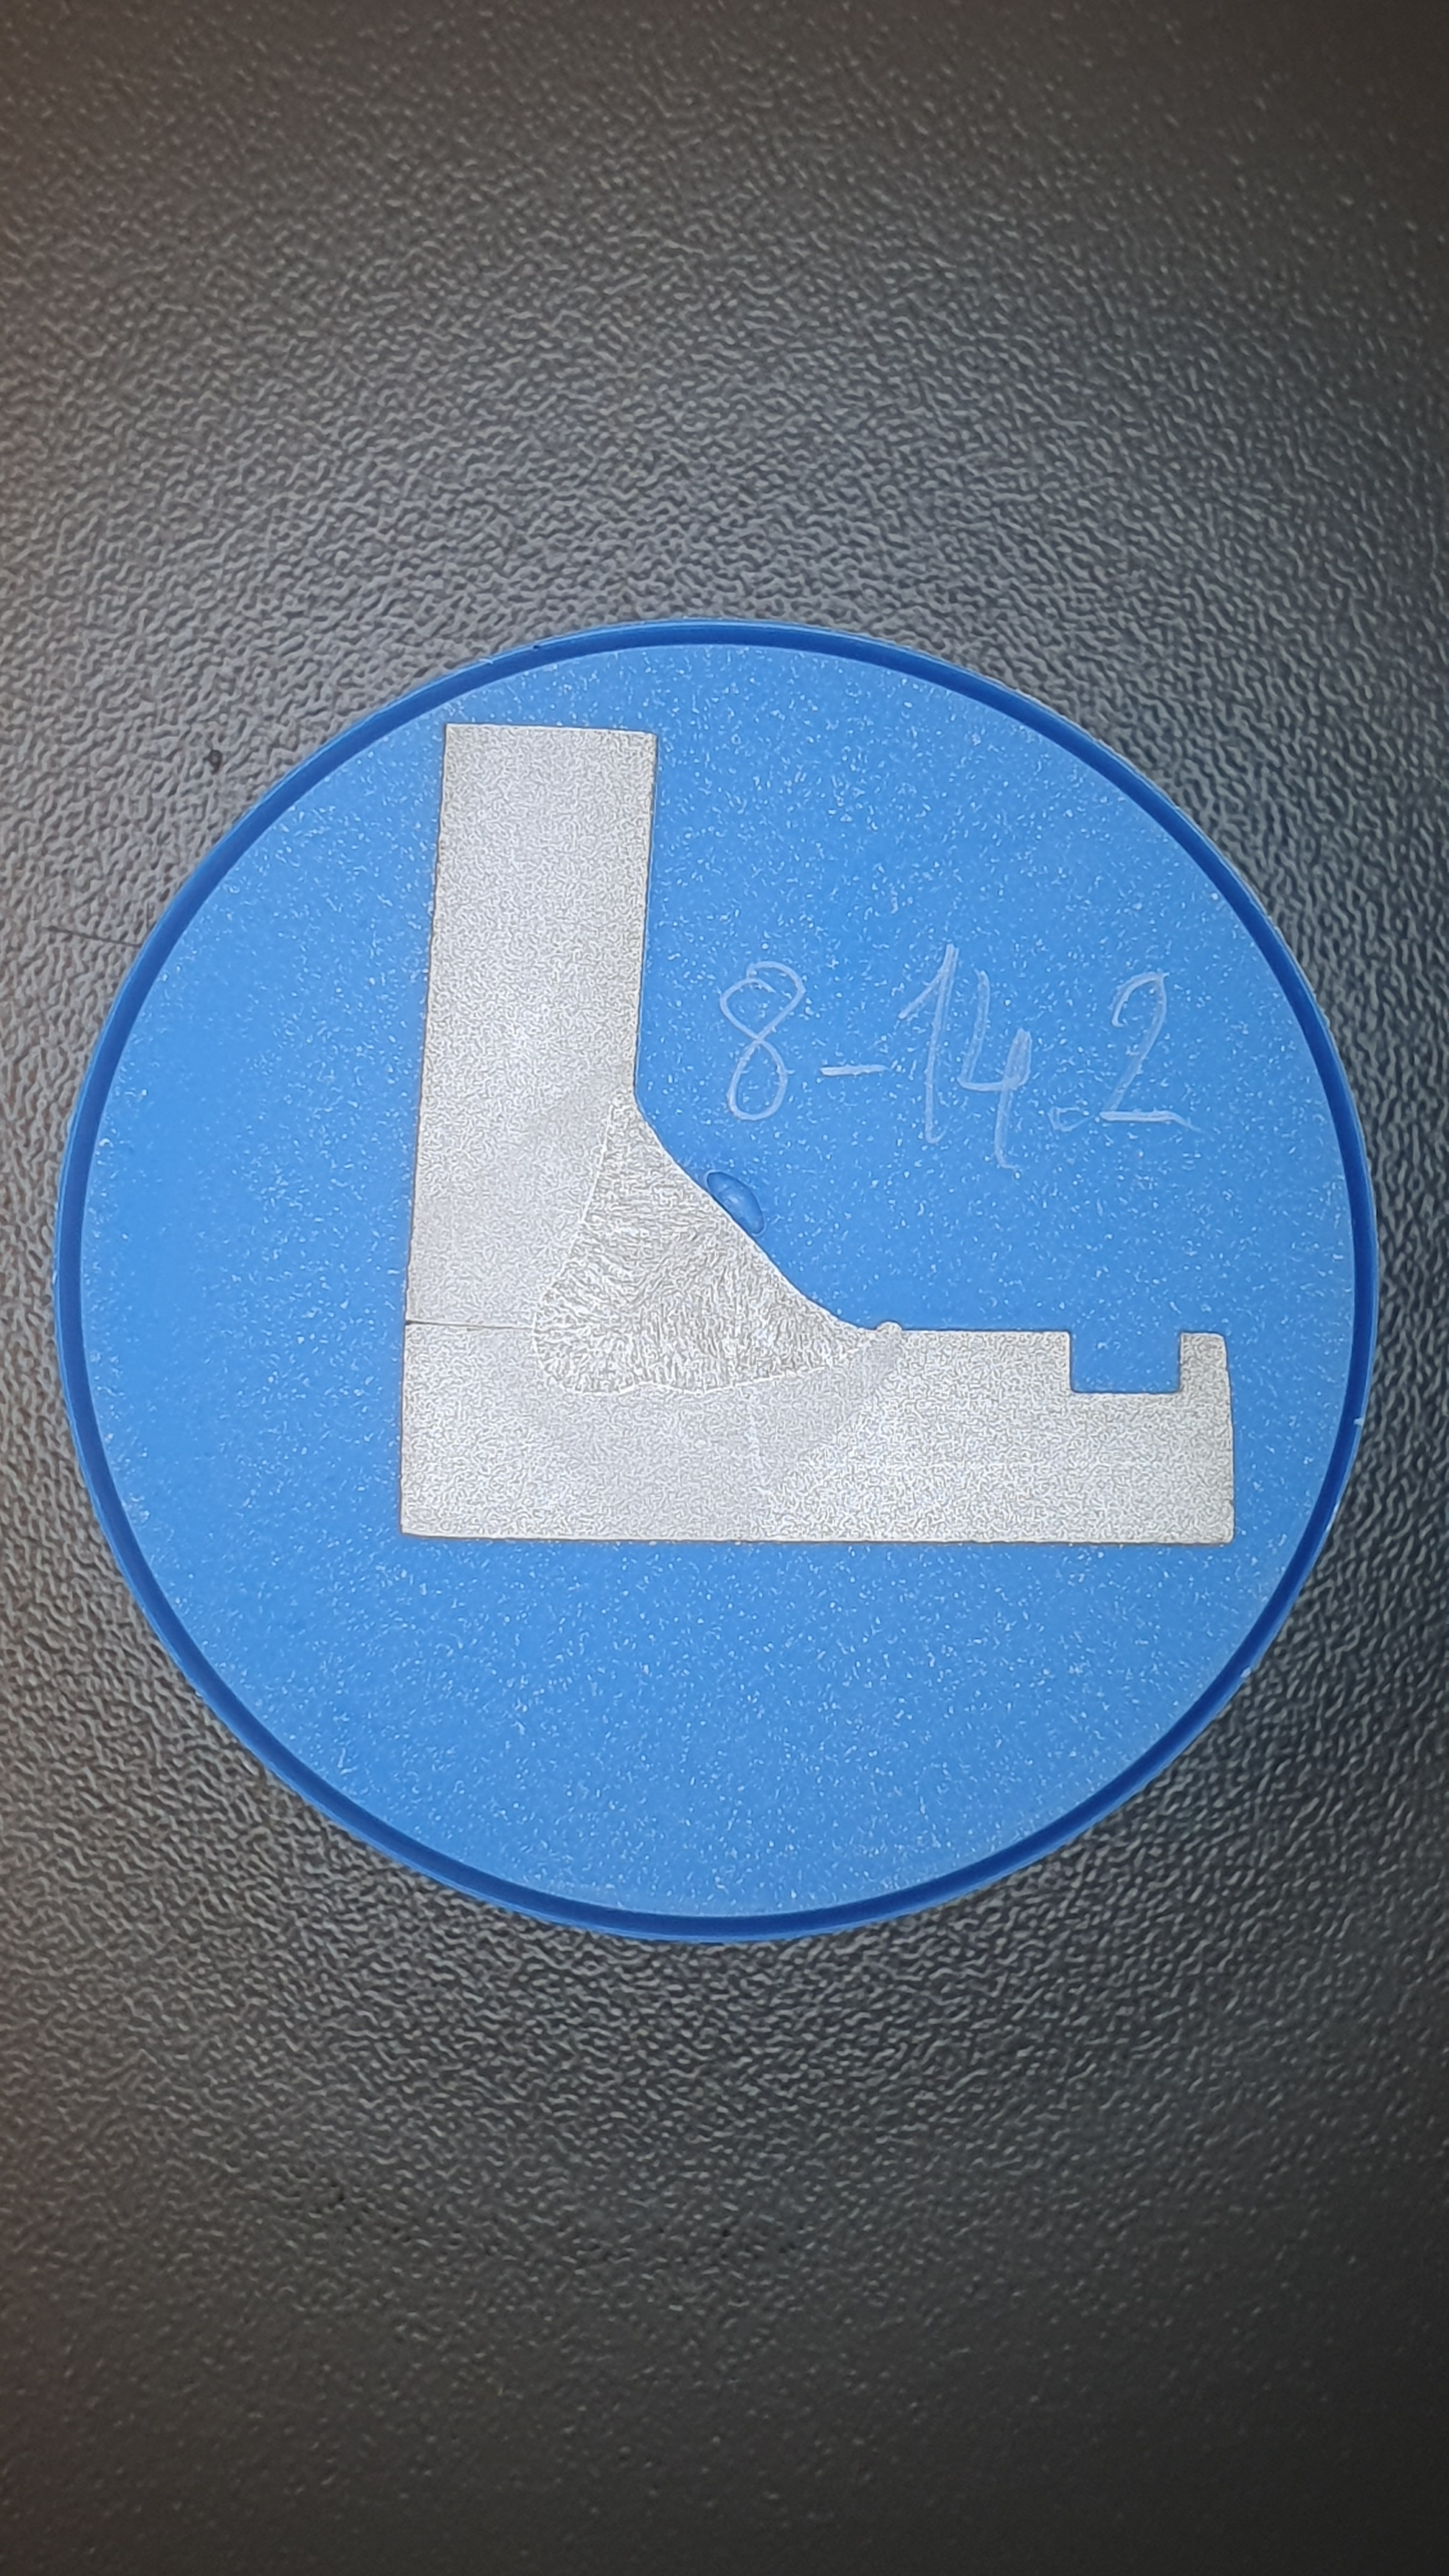Fusion: (533, 1085, 878, 1396)
Hintergrund: (81, 644, 1353, 1920)
Metall: (400, 722, 1235, 1545)
Nebenbereich: (453, 1060, 906, 1486)
